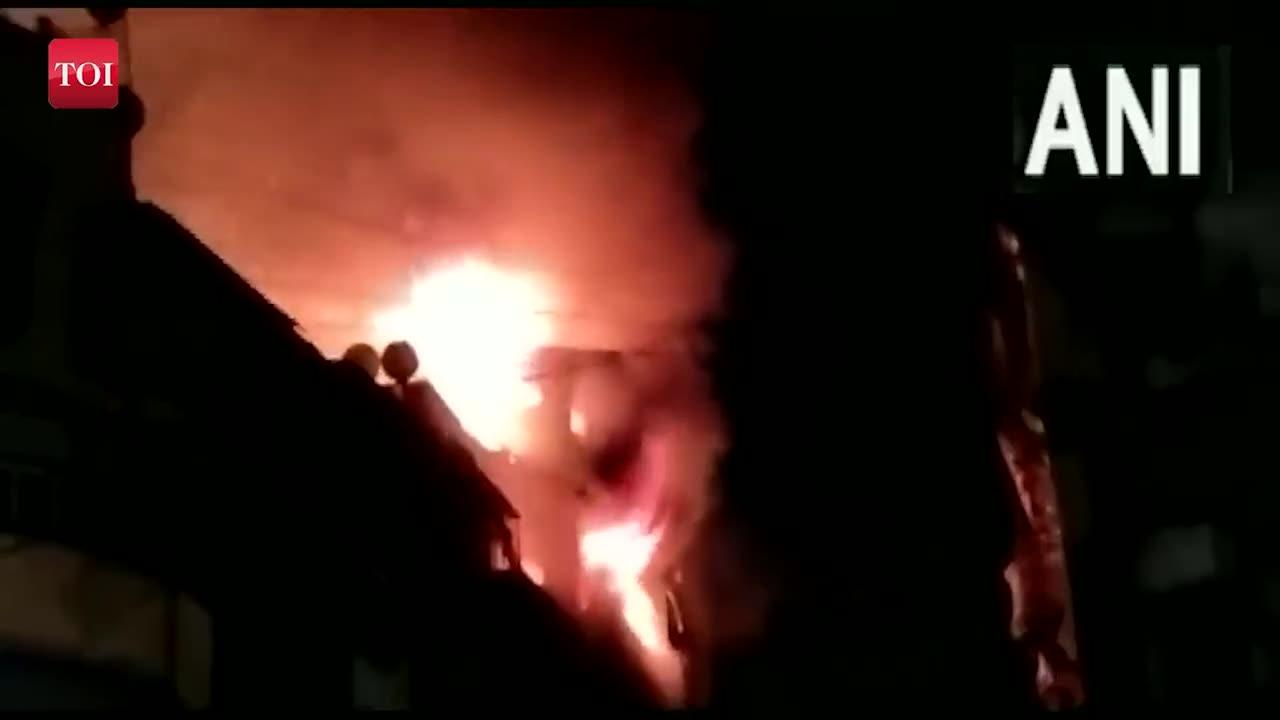fire: (367, 227, 658, 447)
